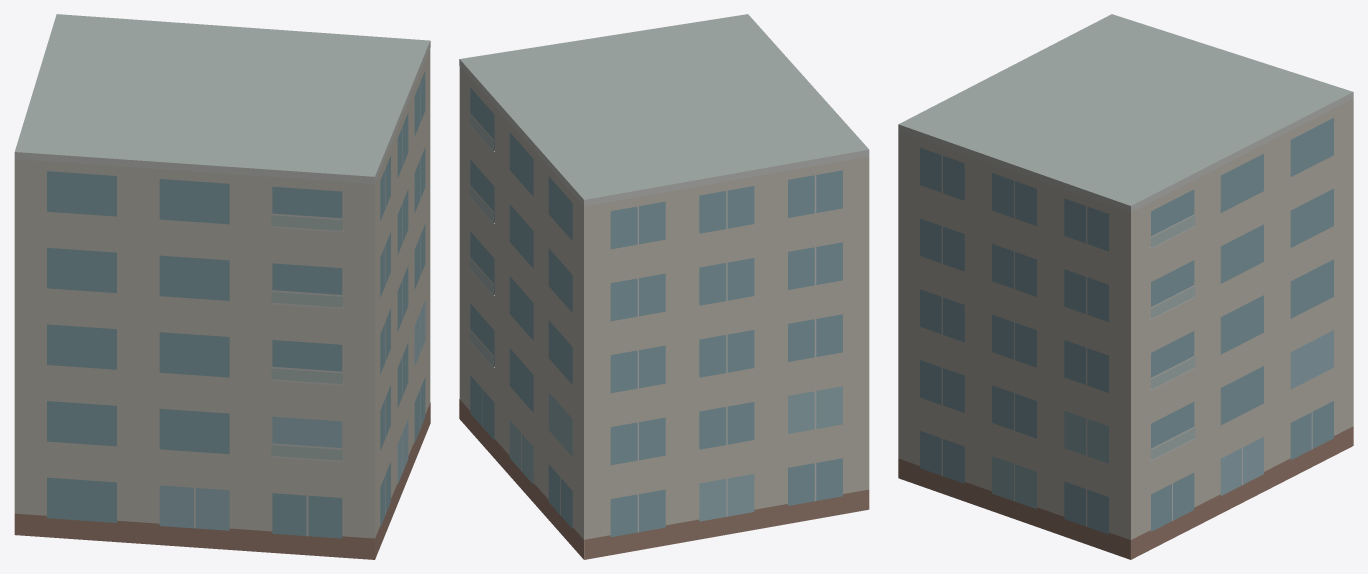
File: survey-upis-33044489.glb
The picture shows the model from 3 angles, left to right: view 1: azimuth 30°, elevation 25°; view 2: azimuth 150°, elevation 25°; view 3: azimuth 270°, elevation 25°; orthographic projection. The views are drawn at different scales.
Parts seen in each view (by area): view 1: survey-upis-33044489.tmp; view 2: survey-upis-33044489.tmp; view 3: survey-upis-33044489.tmp.
Boxes of the visible parts, x1,y1,x2,y2 form: survey-upis-33044489.tmp: (14,14,430,559); survey-upis-33044489.tmp: (459,14,869,559); survey-upis-33044489.tmp: (898,14,1353,559).
Size of the model in its own units: 15.37 by 13.2 by 15.4.
